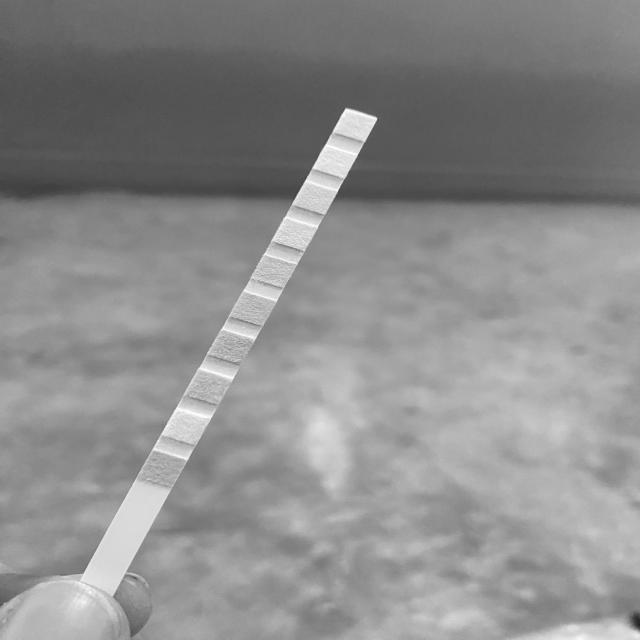Bilirubin: (171, 416, 201, 437)
Blood: (239, 298, 265, 318)
Glucose: (147, 458, 177, 479)
Ketone: (195, 376, 222, 397)
Leukocytes: (341, 116, 368, 136)
Nitrite: (323, 152, 349, 172)
Protein: (281, 224, 308, 244)
SpGravity: (216, 337, 245, 358)
Urobilinogen: (301, 188, 328, 208)
background: (0, 0, 640, 640)
pH: (260, 260, 287, 280)
strip: (80, 108, 378, 592)
